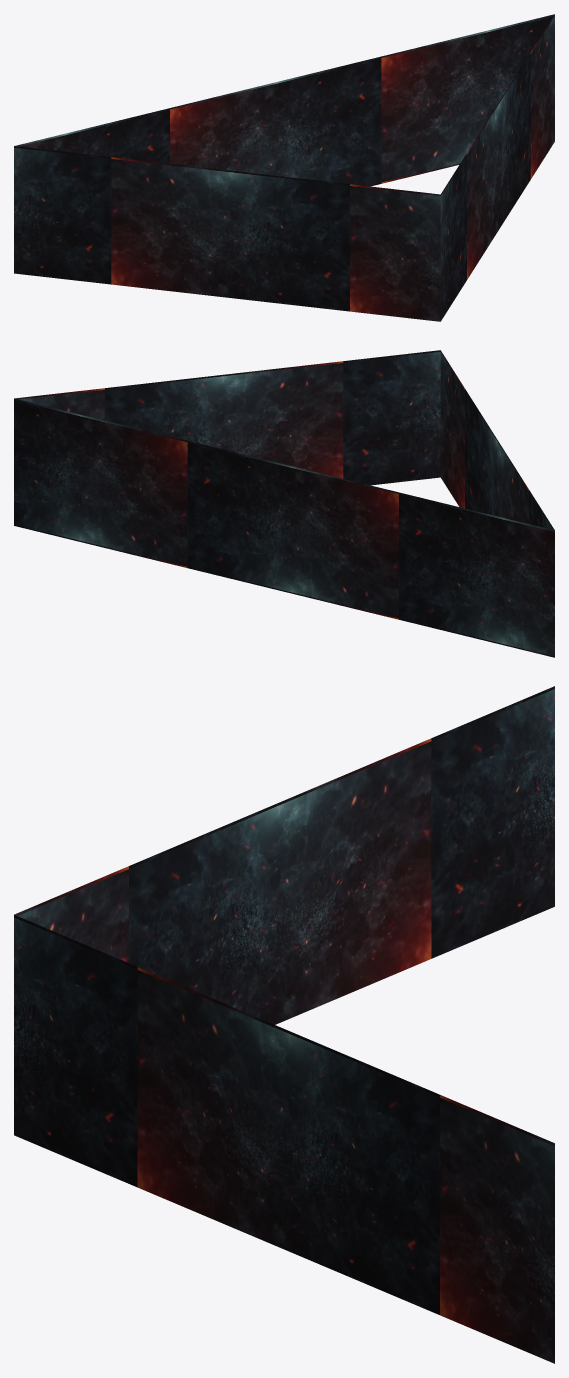
The model's file is Stagebot.fbx.
3 views of the same model, one above another, from view 1: azimuth 30°, elevation 25°; view 2: azimuth 150°, elevation 25°; view 3: azimuth 270°, elevation 25° (orthographic). The views are drawn at different scales.
Parts seen in each view (by area): view 1: Line003; view 2: Line003; view 3: Line003.
Boxes of the visible parts, bbox=[...] form: Line003: bbox=[14, 14, 554, 321]; Line003: bbox=[14, 350, 554, 657]; Line003: bbox=[14, 686, 554, 1363].
Bounding box in the file's own units: 20 × 4.5 × 10.
Materials: 1 (1 with a texture image).
